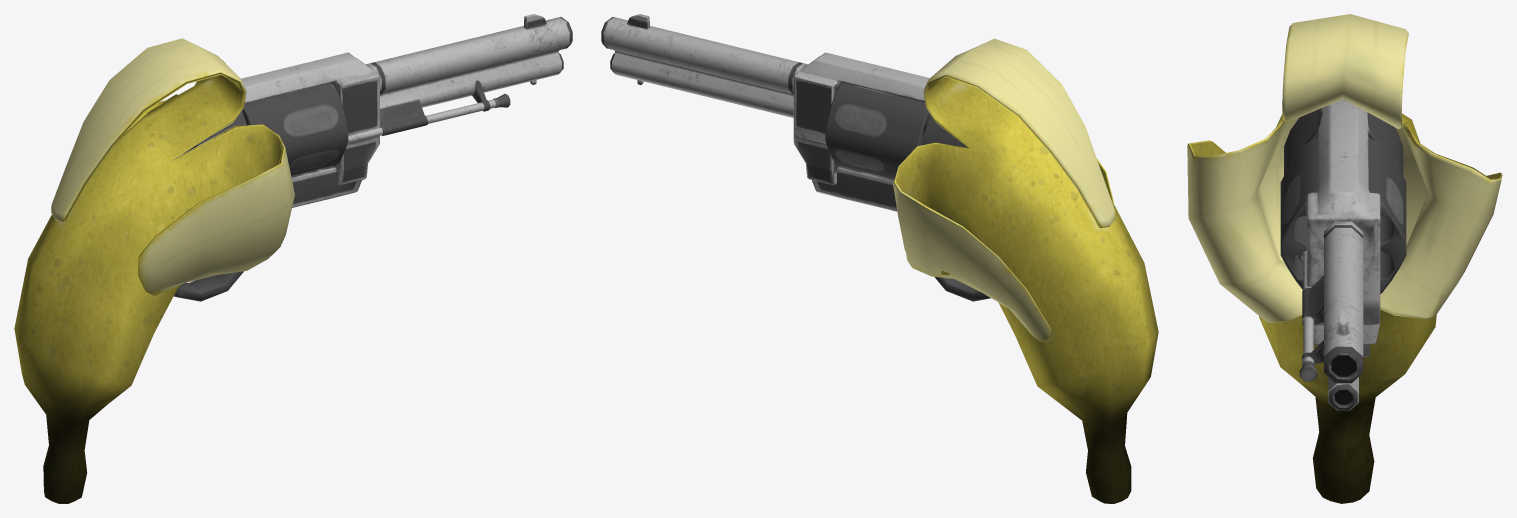
The model's file is Banana_Pistol.fbx.
The picture shows the model from 3 angles, left to right: view 1: azimuth 30°, elevation 25°; view 2: azimuth 150°, elevation 25°; view 3: azimuth 270°, elevation 25°; orthographic projection. The views are drawn at different scales.
Visible parts, largest first — view 1: Banana_LP, Cev_LP, Telo_LP, Bure_LP, OkvirObaraca_LP, Punjac_LP; view 2: Banana_LP, Cev_LP, Telo_LP, Bure_LP, OkvirObaraca_LP; view 3: Banana_LP, Telo_LP, Cev_LP, Bure_LP, Punjac_LP.
Part boxes in pixels (bbox=[...]): Banana_LP: bbox=[14, 38, 294, 503]; Cev_LP: bbox=[366, 17, 572, 135]; Telo_LP: bbox=[182, 52, 379, 207]; Bure_LP: bbox=[242, 82, 348, 175]; OkvirObaraca_LP: bbox=[173, 271, 243, 301]; Punjac_LP: bbox=[347, 93, 510, 143]; Banana_LP: bbox=[893, 38, 1158, 503]; Cev_LP: bbox=[601, 17, 807, 117]; Telo_LP: bbox=[793, 52, 967, 211]; Bure_LP: bbox=[825, 82, 929, 178]; OkvirObaraca_LP: bbox=[934, 277, 990, 301]; Banana_LP: bbox=[1187, 14, 1502, 503]; Telo_LP: bbox=[1284, 99, 1403, 356]; Cev_LP: bbox=[1302, 221, 1363, 410]; Bure_LP: bbox=[1280, 137, 1406, 293]; Punjac_LP: bbox=[1298, 250, 1317, 381].
Size of the model in its own units: 131 by 96.56 by 50.06.
Materials: 2 (2 with a texture image).
